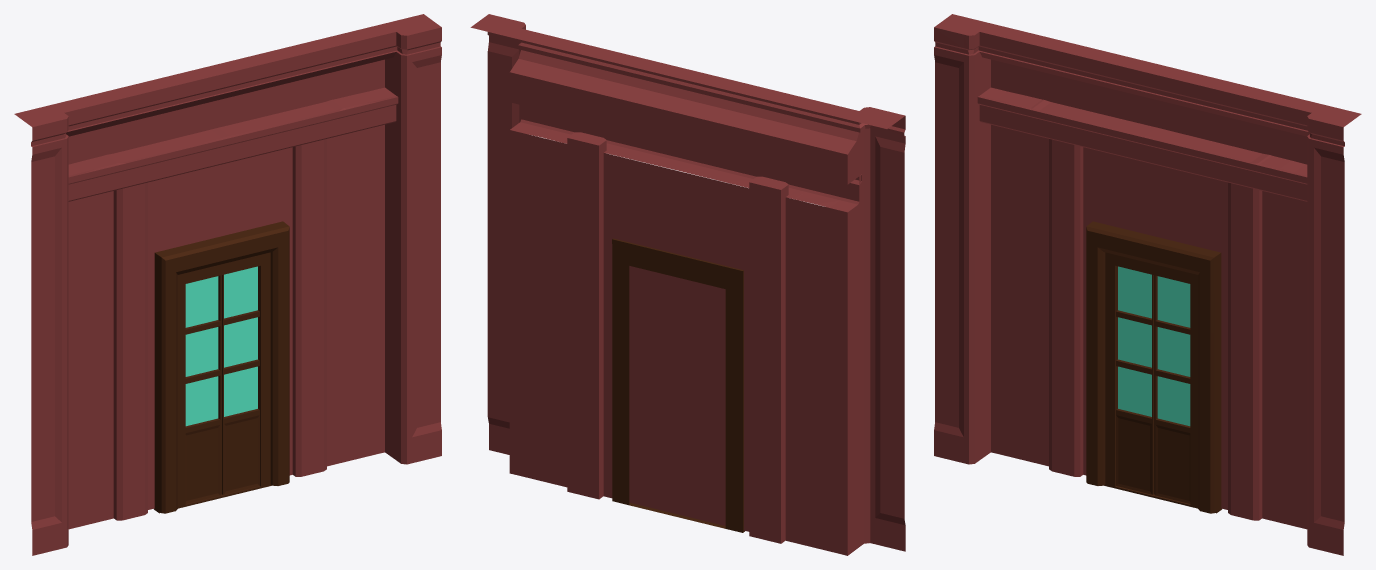
Rendered from O_V_FacadeDoor1_Down.fbx.
3 renders of one model, left to right at view 1: azimuth 30°, elevation 25°; view 2: azimuth 150°, elevation 25°; view 3: azimuth 330°, elevation 25°, orthographic.
Parts seen in each view (by area): view 1: O_FacadeDoor1_Down; view 2: O_FacadeDoor1_Down; view 3: O_FacadeDoor1_Down.
Boxes of the visible parts, bbox=[...] form: O_FacadeDoor1_Down: bbox=[14, 14, 441, 555]; O_FacadeDoor1_Down: bbox=[470, 14, 905, 555]; O_FacadeDoor1_Down: bbox=[934, 14, 1361, 555].
Bounding box in the file's own units: 6.5 × 6.53 × 0.6246.
